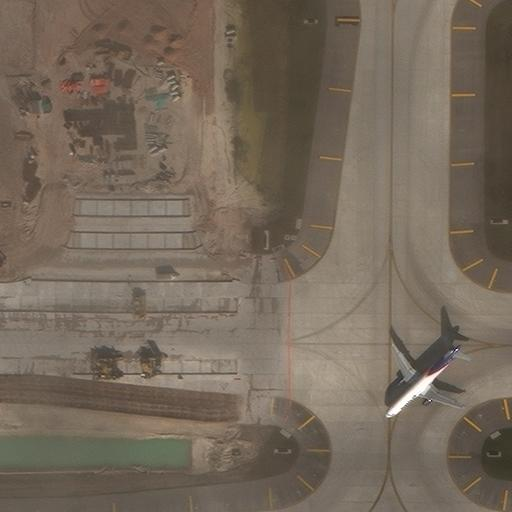Medium Civil Transport: (387, 337, 462, 418)
